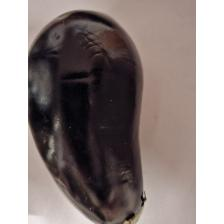Aubergine: (30, 9, 146, 224)
